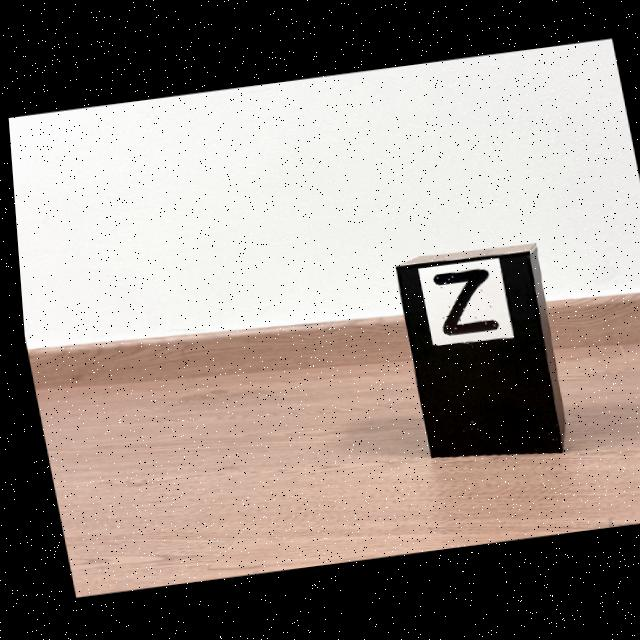Z: (429, 269, 493, 336)
